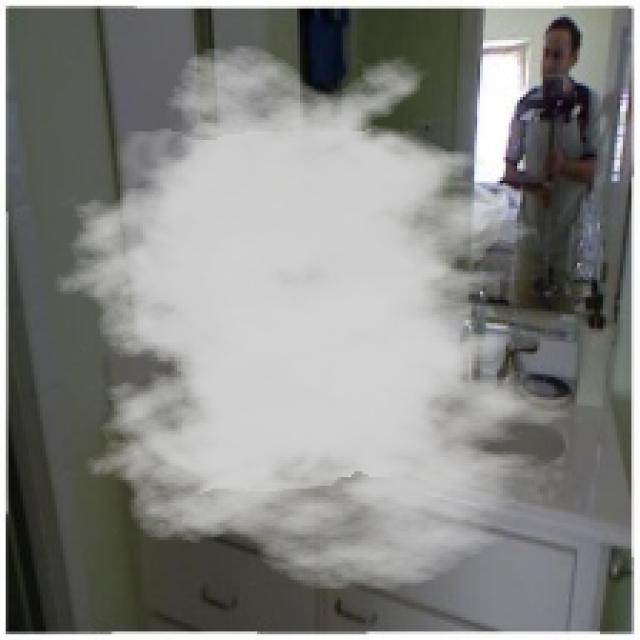Smoke: (46, 42, 594, 592)
